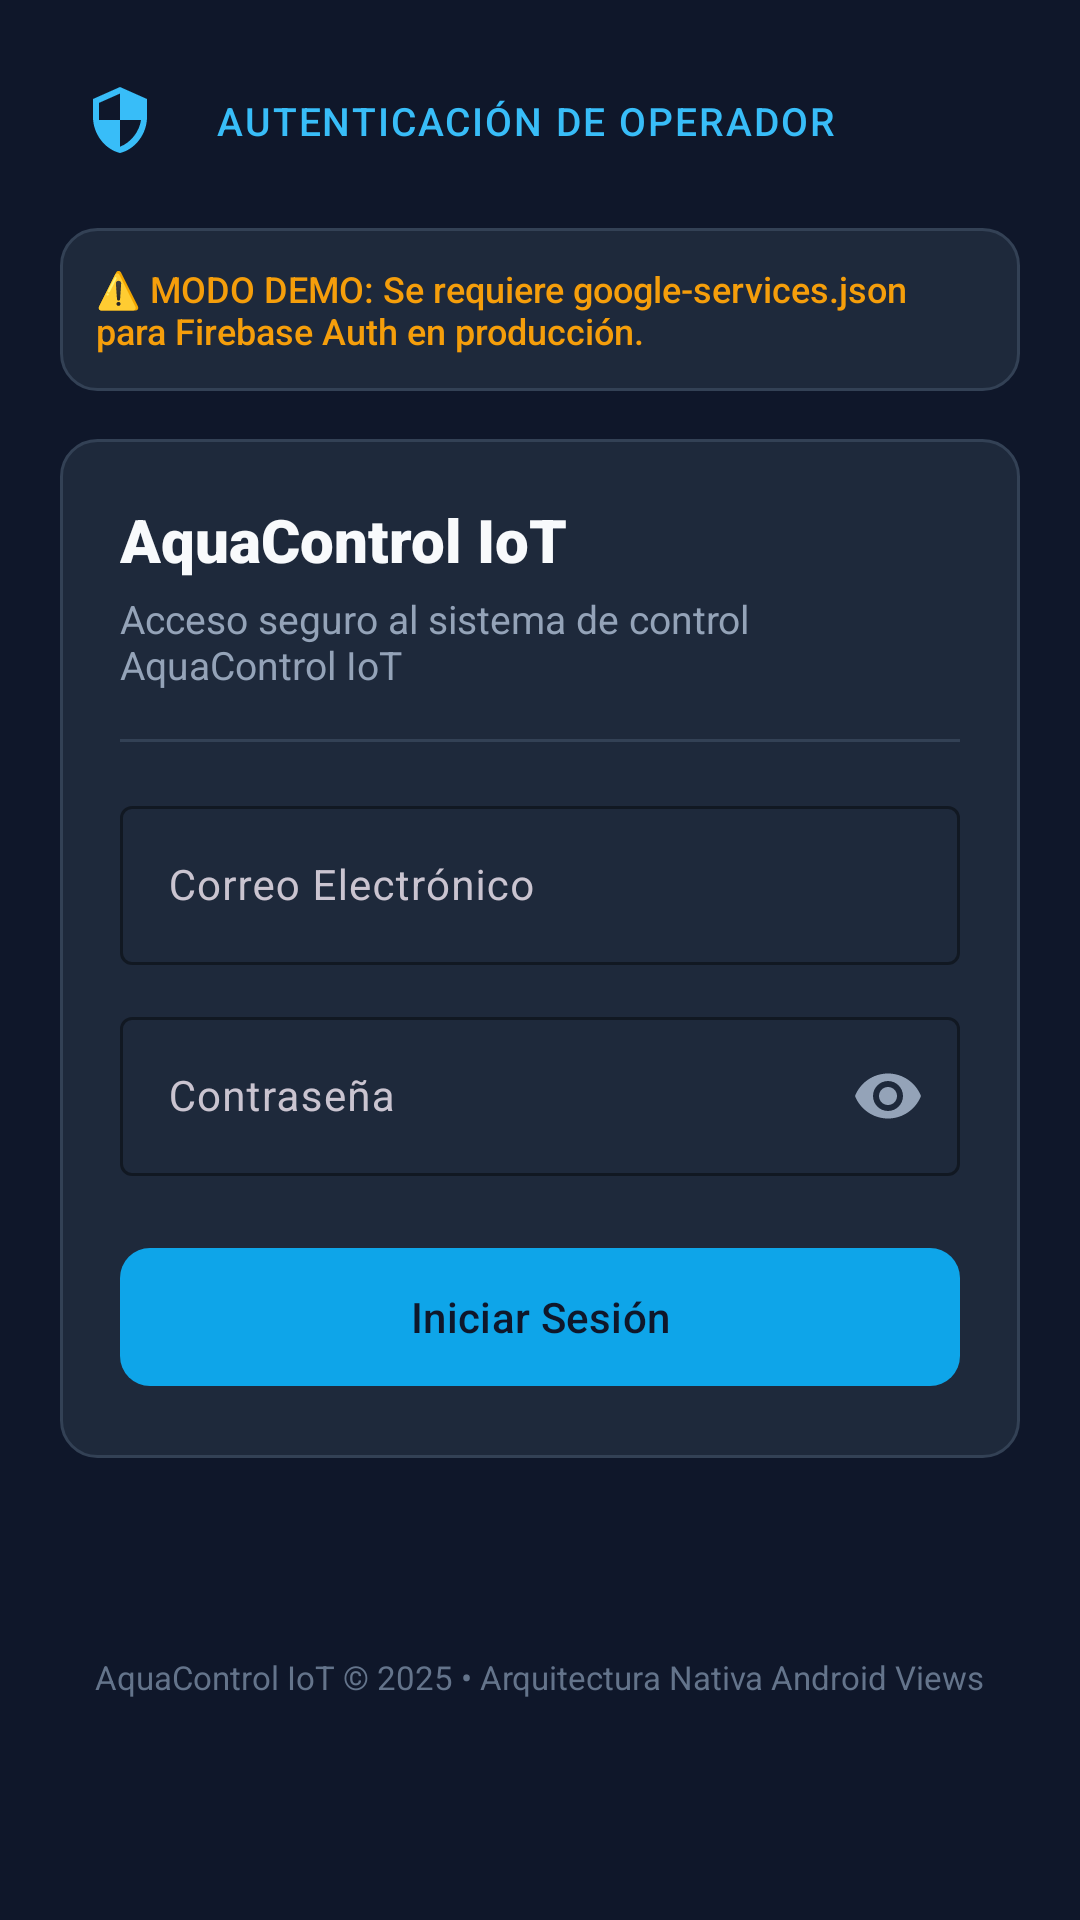

Icon bounding boxes for this 1080px×1920px phone screenshot, format detection(x1, y1, x2, y2):
shield auth: detection(93, 87, 147, 153)
